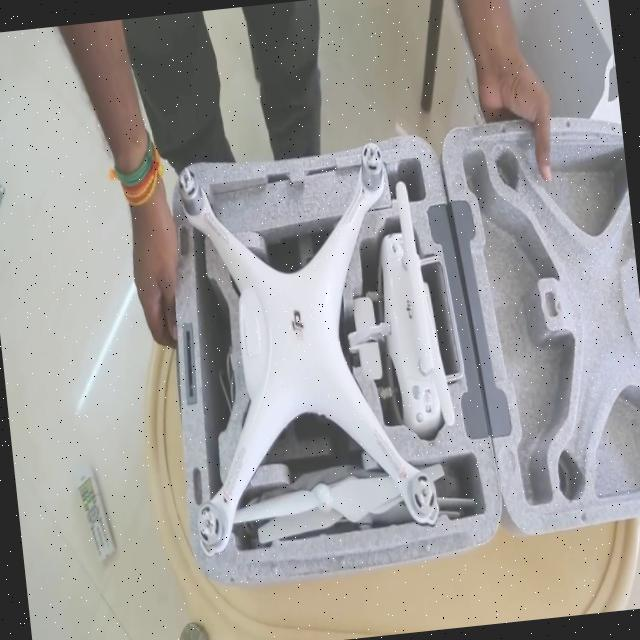drone: (144, 112, 456, 574)
